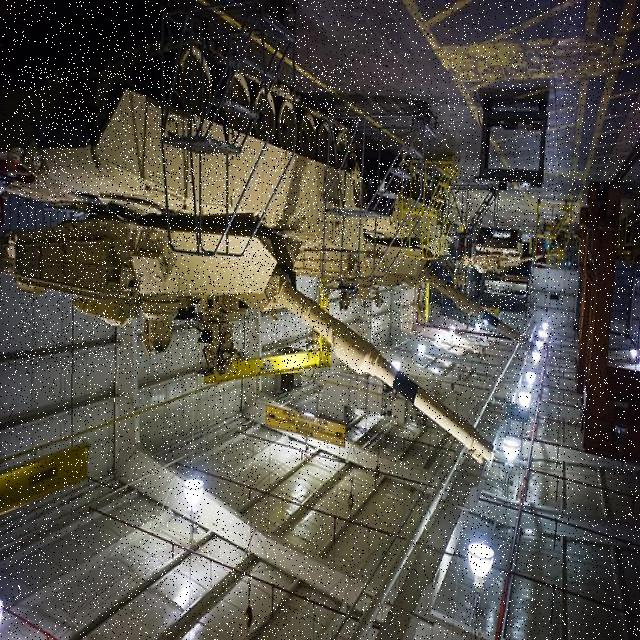MIL_MBT: (21, 66, 355, 373), (300, 167, 520, 343), (470, 221, 533, 280)
